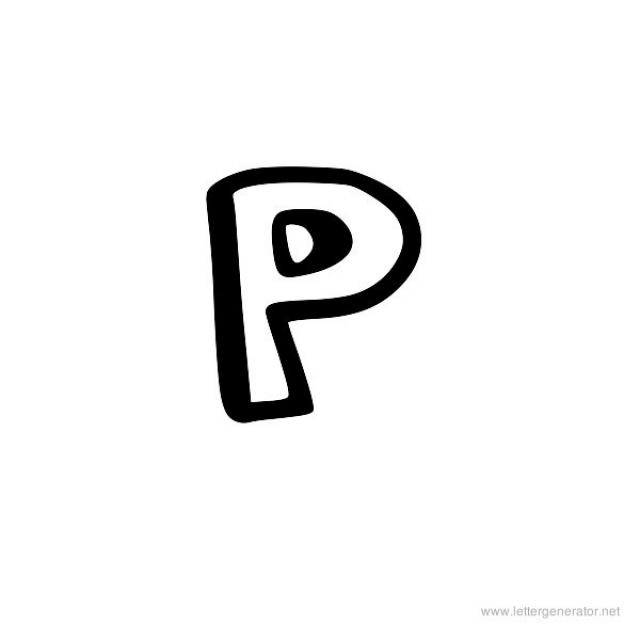P: (171, 94, 448, 450)
